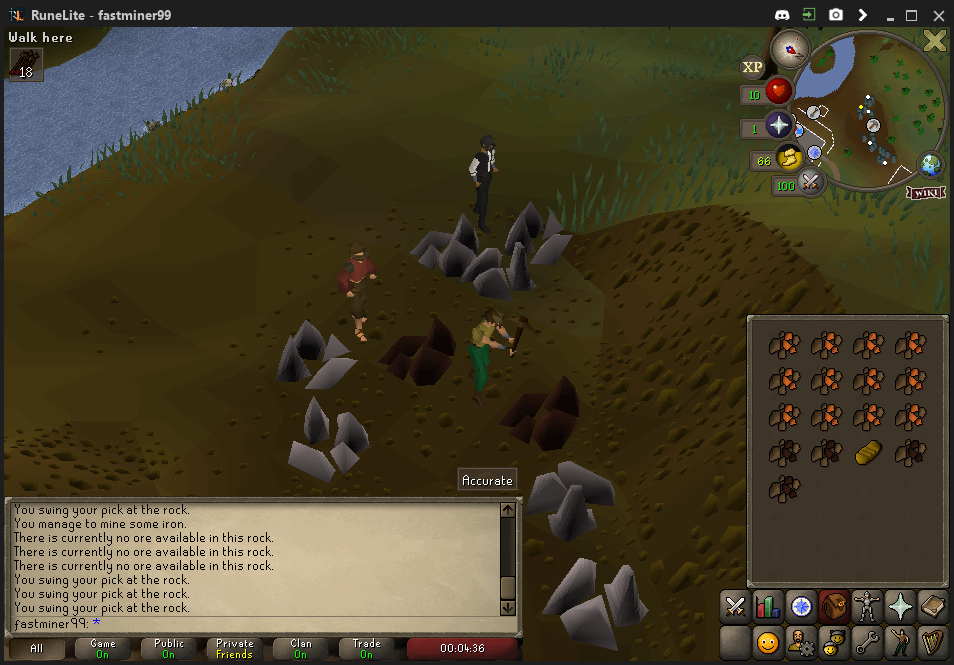ore: (498, 377, 589, 449), (387, 313, 463, 384)
